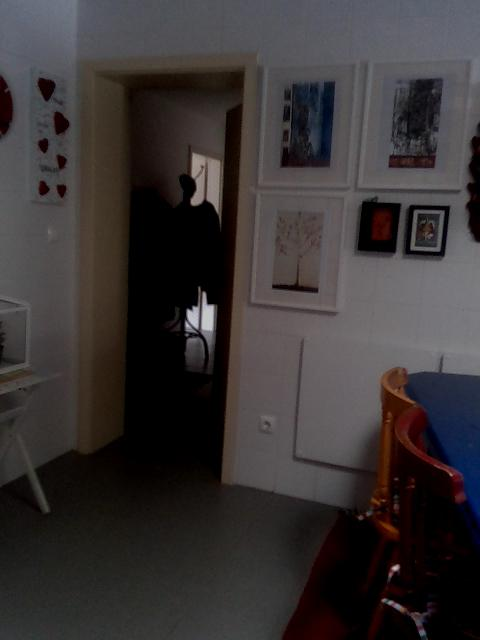open_door: (76, 49, 259, 485)
